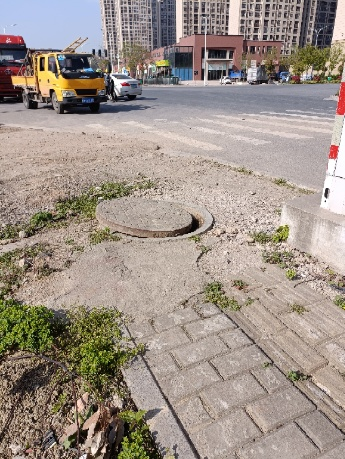uncovered: (94, 198, 214, 240)
